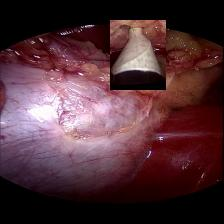Hook: (110, 19, 166, 88)
